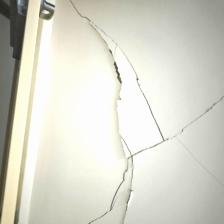Medium: (89, 32, 179, 210)
